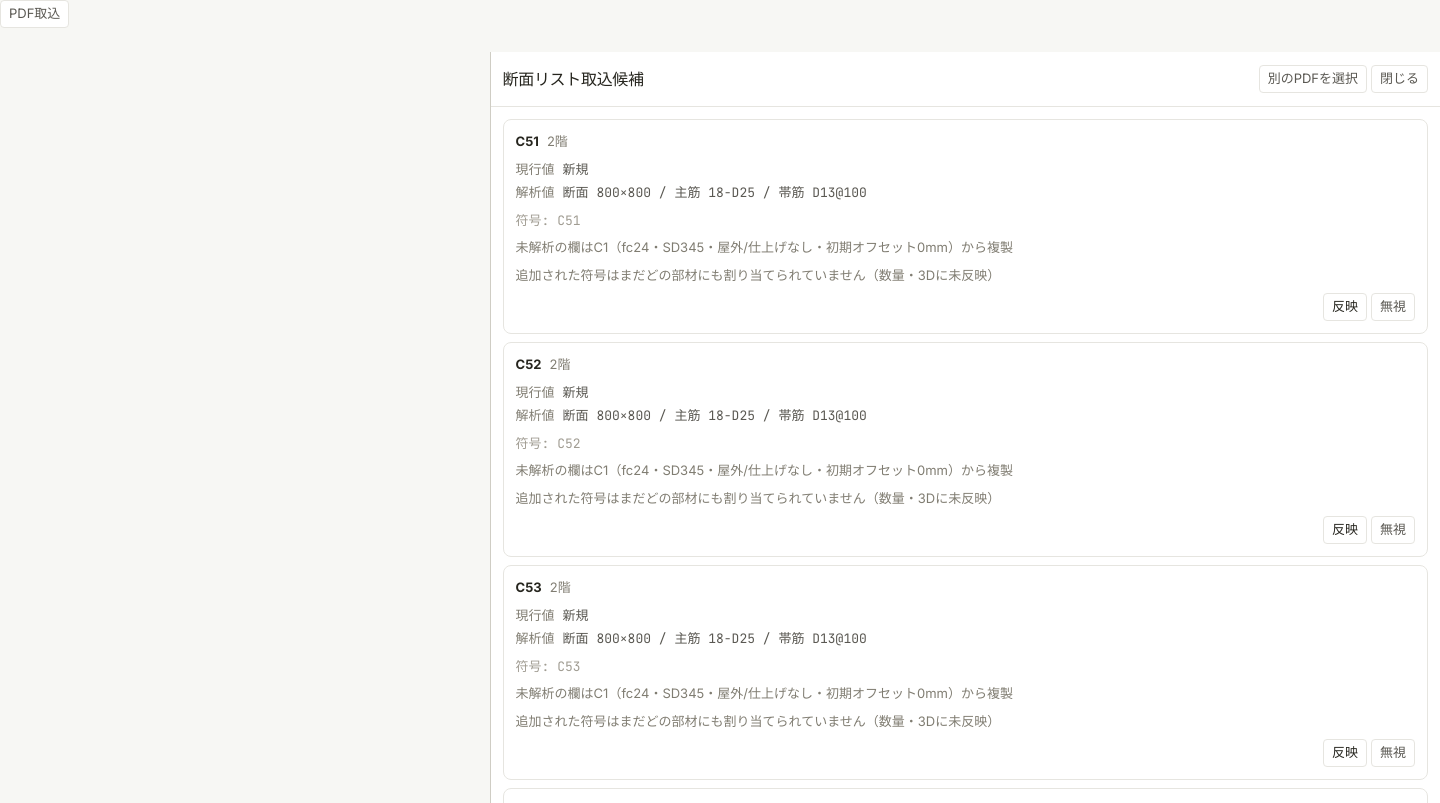
Test: SectionImport › ignores one candidate without changing Project
Step 1. Click the 2nd button "無視" → (1393, 530), box left=1371, top=516, right=1415, bottom=544
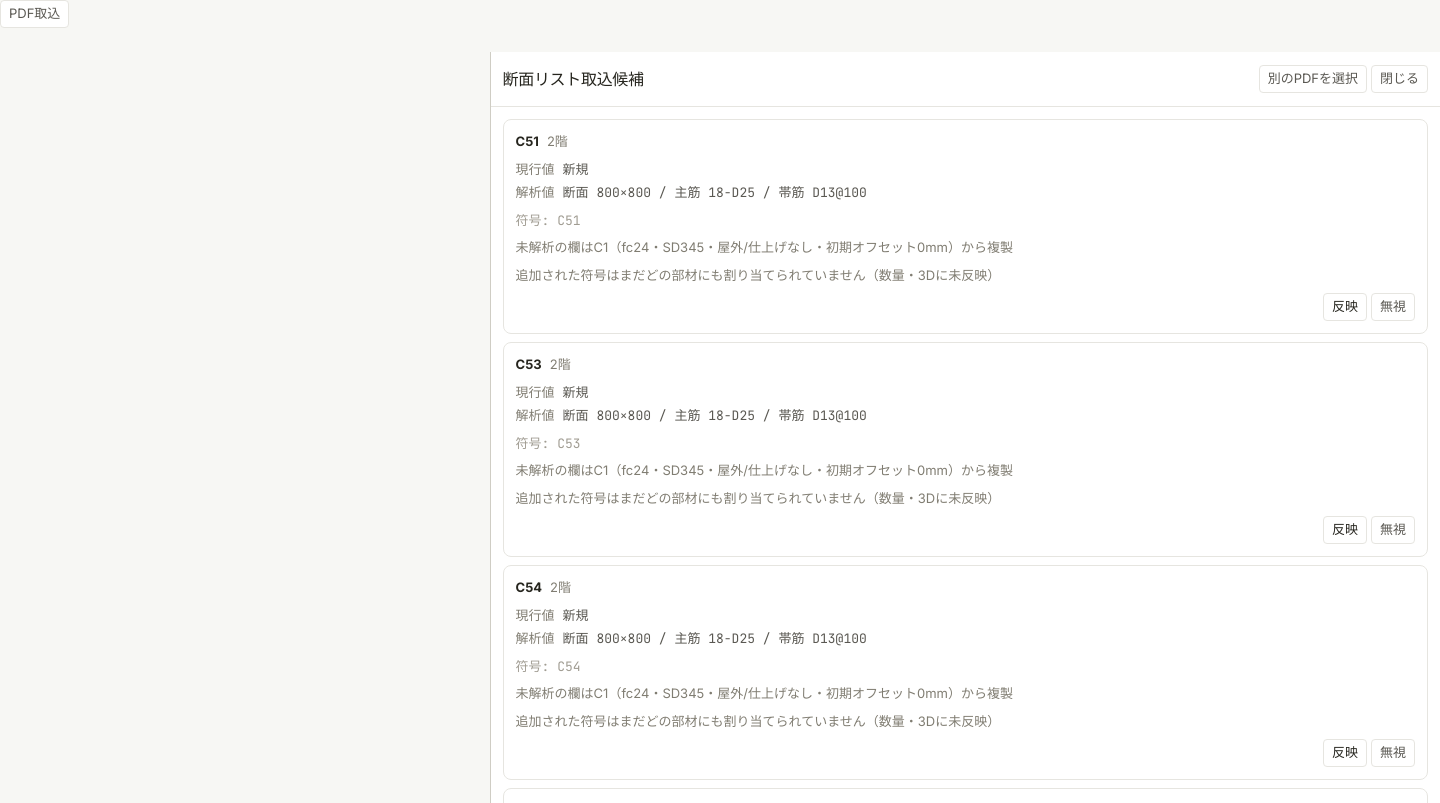
Now the list item with test id "section-import-candidate-C52-2階" is gone
